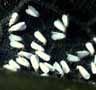whitefly: (24, 4, 41, 18)
